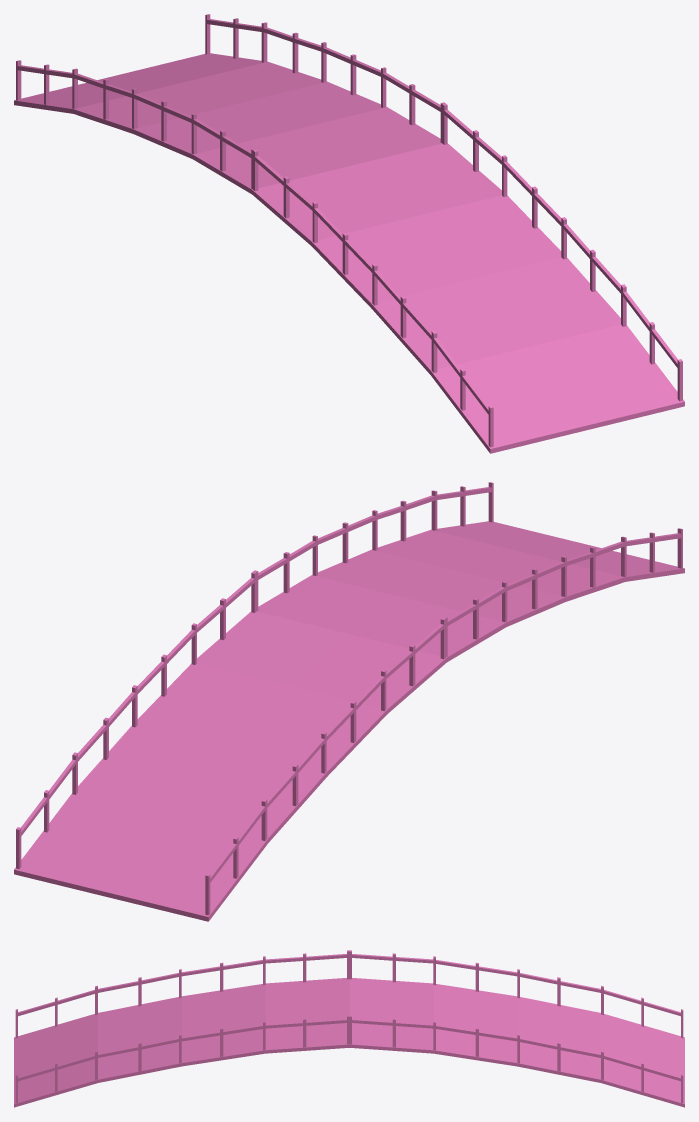
The model's file is Mo_ForestVillageBridge01.fbx.
3 renders of one model, top to bottom at view 1: azimuth 30°, elevation 25°; view 2: azimuth 150°, elevation 25°; view 3: azimuth 270°, elevation 25°, orthographic. The views are drawn at different scales.
Visible parts, largest first — view 1: Cube; view 2: Cube; view 3: Cube.
Boxes of the visible parts, bbox=[...] form: Cube: bbox=[14, 14, 684, 453]; Cube: bbox=[14, 482, 684, 921]; Cube: bbox=[14, 950, 684, 1107].
Size of the model in its own units: 1404 by 888 by 5950.
